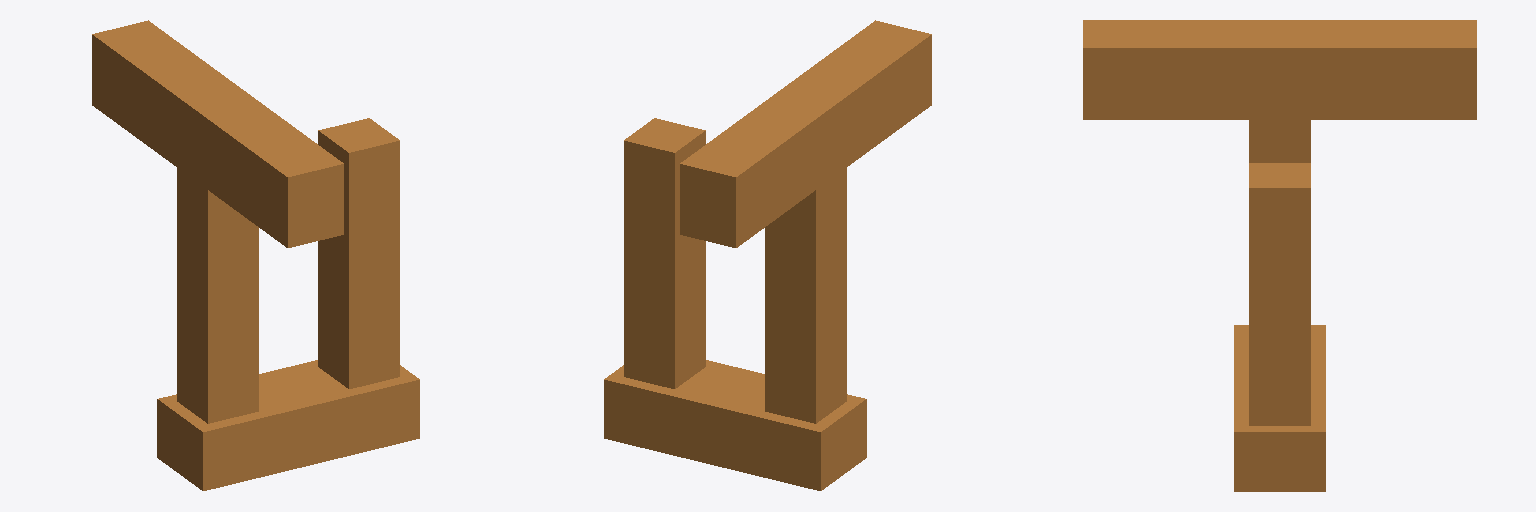
robot.urdf — fixture_beam_3x_part_1_sdf_hybrid:
<?xml version="1.0" encoding="utf-8"?>
<robot name="fixture_beam_3x_part_1_sdf_hybrid">
  <link name="plate">
    <visual>
      <origin xyz="0.047589 -0.000000 0.095250" rpy="0.000000 0.000000 0.000000"/>
      <geometry>
        <box size="0.034509 0.036010 0.190500"/>
      </geometry>
      <material name="bulk"/>
    </visual>
    <collision>
      <origin xyz="0.047589 -0.000000 0.095250" rpy="0.000000 0.000000 0.000000"/>
      <geometry>
        <box size="0.034509 0.036010 0.190500"/>
      </geometry>
    </collision>
    <visual>
      <origin xyz="-0.000000 0.000000 0.019050" rpy="0.000000 0.000000 0.000000"/>
      <geometry>
        <box size="0.146250 0.053340 0.038100"/>
      </geometry>
      <material name="bulk"/>
    </visual>
    <collision>
      <origin xyz="-0.000000 0.000000 0.019050" rpy="0.000000 0.000000 0.000000"/>
      <geometry>
        <box size="0.146250 0.053340 0.038100"/>
      </geometry>
    </collision>
    <visual>
      <origin xyz="-0.047589 -0.000000 0.114300" rpy="0.000000 0.000000 0.000000"/>
      <geometry>
        <box size="0.034509 0.036010 0.228600"/>
      </geometry>
      <material name="bulk"/>
    </visual>
    <collision>
      <origin xyz="-0.047589 -0.000000 0.114300" rpy="0.000000 0.000000 0.000000"/>
      <geometry>
        <box size="0.034509 0.036010 0.228600"/>
      </geometry>
    </collision>
    <visual>
      <origin xyz="-0.047625 -0.000000 0.213360" rpy="0.000000 0.000000 0.000000"/>
      <geometry>
        <box size="0.038100 0.228600 0.045720"/>
      </geometry>
      <material name="bulk"/>
    </visual>
    <collision>
      <origin xyz="-0.047625 -0.000000 0.213360" rpy="0.000000 0.000000 0.000000"/>
      <geometry>
        <box size="0.038100 0.228600 0.045720"/>
      </geometry>
    </collision>
    <visual>
      <origin xyz="0.047625 -0.000000 0.113075" rpy="0.000000 -1.570796 0.000000"/>
      <geometry>
        <mesh filename="../3/sdf_hybrid/3_hole_patch_for_part_1.obj" scale="1 1 1"/>
      </geometry>
      <material name="hole"/>
    </visual>
    <collision>
      <origin xyz="0.047625 -0.000000 0.113075" rpy="0.000000 -1.570796 0.000000"/>
      <geometry>
        <mesh filename="../3/sdf_hybrid/3_hole_patch_for_part_1.obj" scale="1 1 1"/>
      </geometry>
      <sdf resolution="256"/>
    </collision>
  </link>
  <material name="bulk">
    <color rgba="0.78 0.55 0.30 1.0"/>
  </material>
  <material name="hole">
    <color rgba="0.30 0.65 0.85 1.0"/>
  </material>
</robot>

--- Render facts (derived) ---
The picture shows the robot from 3 angles, left to right: view 1: azimuth 30°, elevation 25°; view 2: azimuth 150°, elevation 25°; view 3: azimuth 270°, elevation 25°; orthographic projection.
Robot: fixture_beam_3x_part_1_sdf_hybrid — 1 links, 0 joints (none); root link plate; default pose: every joint at zero.
Links seen in each view (by area): view 1: plate; view 2: plate; view 3: plate.
Link boxes in pixels (bbox=[...]): plate: bbox=[92, 20, 419, 490]; plate: bbox=[604, 20, 931, 490]; plate: bbox=[1083, 20, 1476, 491].
Size in the robot's own frame: 0.1462 by 0.2286 by 0.2362 metres.
Meshes: 1 distinct files referenced, 0 mesh visuals loaded (none loaded); not drawn: 1 (reference not matched to a file when rendering).
